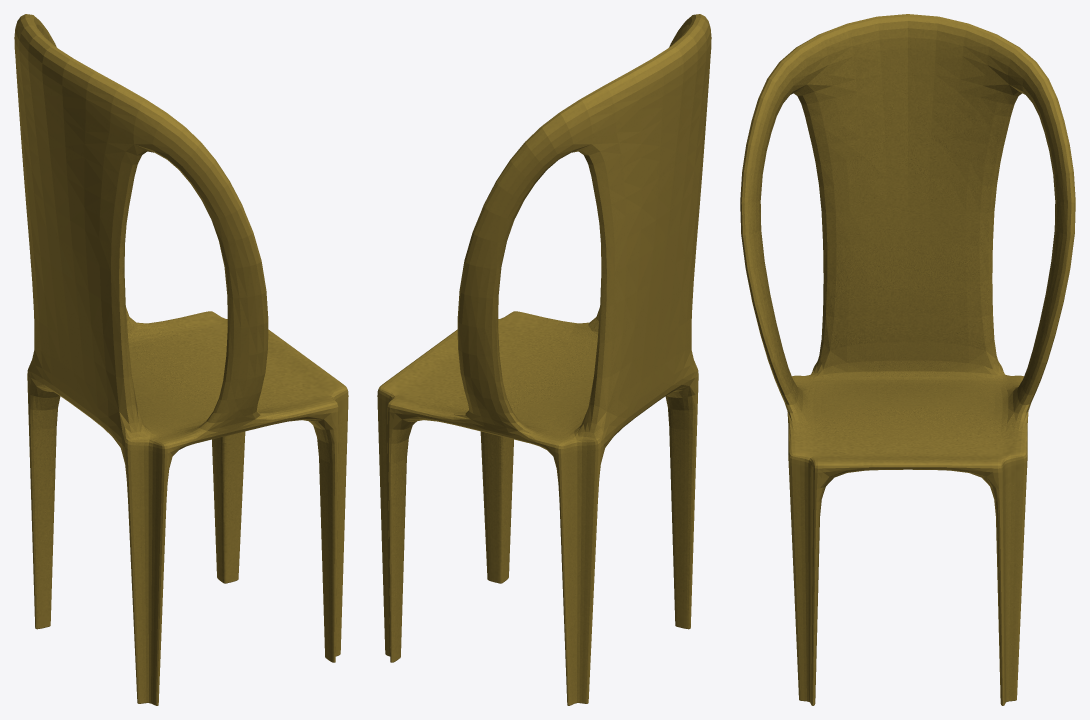
File: Chair.obj
The picture shows the model from 3 angles, left to right: view 1: azimuth 30°, elevation 25°; view 2: azimuth 150°, elevation 25°; view 3: azimuth 270°, elevation 25°; orthographic projection. The views are drawn at different scales.
Parts seen in each view (by area): view 1: Cube; view 2: Cube; view 3: Cube.
Part boxes in pixels (bbox=[...]): Cube: bbox=[14, 14, 348, 705]; Cube: bbox=[377, 14, 711, 705]; Cube: bbox=[740, 14, 1075, 705].
Size of the model in its own units: 1.71 by 4 by 2.08.
Materials: 1 (1 with a texture image).
